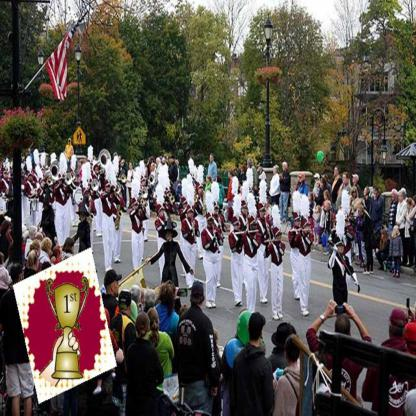face: (112, 280, 120, 296), (338, 243, 344, 254), (59, 249, 64, 260), (253, 223, 259, 232), (166, 230, 171, 240), (296, 218, 301, 227), (305, 224, 310, 233), (261, 209, 266, 218), (7, 226, 12, 235), (392, 193, 397, 201), (199, 187, 204, 195), (160, 209, 165, 217), (134, 203, 139, 211), (81, 213, 86, 221), (320, 179, 324, 188), (278, 234, 282, 243), (184, 202, 189, 209), (41, 180, 46, 187), (324, 193, 328, 201), (236, 223, 240, 231), (245, 206, 249, 214), (399, 194, 403, 201), (353, 190, 357, 197), (382, 232, 386, 239), (72, 244, 75, 253), (344, 175, 347, 183), (216, 207, 219, 215), (190, 210, 193, 218), (107, 185, 110, 193), (5, 171, 8, 179), (335, 168, 338, 176), (365, 189, 368, 196), (86, 192, 89, 199), (96, 167, 99, 174), (374, 190, 377, 196), (396, 228, 399, 234), (283, 165, 286, 171), (210, 219, 213, 225), (211, 155, 214, 161), (359, 210, 362, 216), (299, 175, 302, 181), (354, 177, 357, 182), (327, 204, 330, 209), (317, 184, 320, 189), (316, 177, 319, 182), (259, 166, 262, 171), (207, 177, 210, 182), (163, 158, 166, 163), (157, 160, 160, 165), (130, 164, 133, 169), (30, 175, 33, 180), (317, 208, 320, 213), (274, 168, 276, 174), (229, 172, 231, 178), (242, 169, 244, 174), (171, 159, 173, 164), (122, 161, 124, 166), (69, 141, 71, 146)
